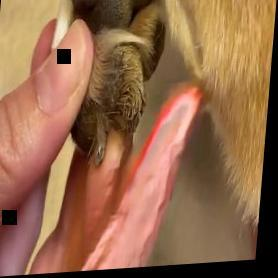keratosis: (98, 43, 155, 145)
